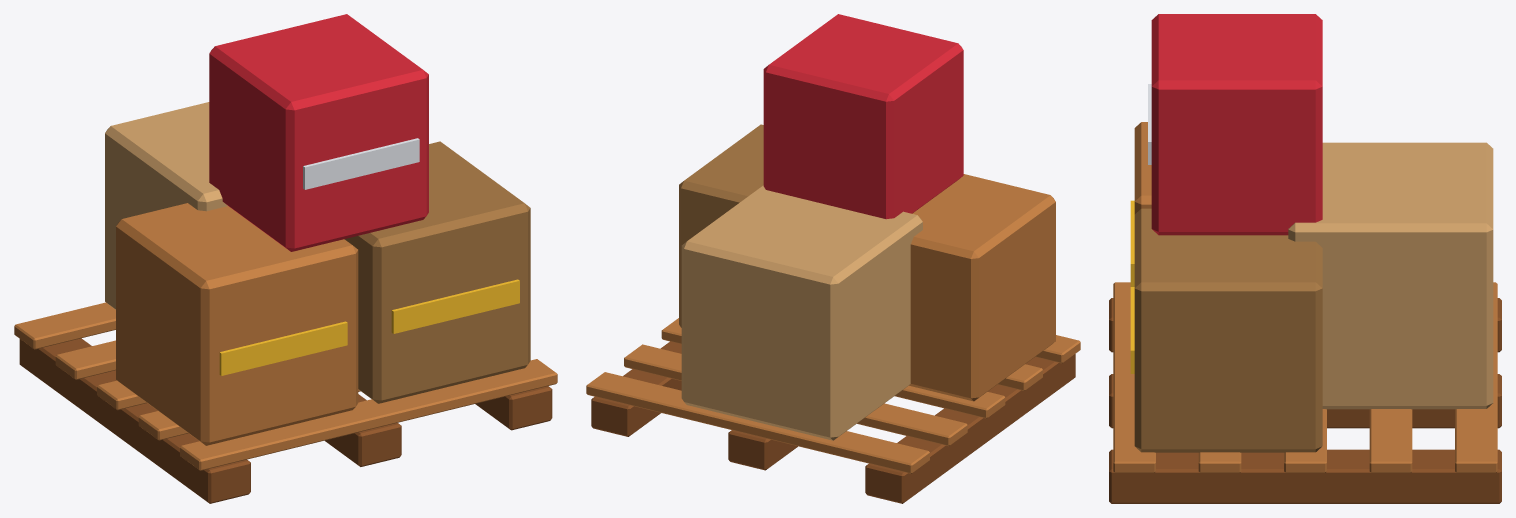
The model's file is PalletCrates.fbx.
3 views of the same model, side by side, from view 1: azimuth 30°, elevation 25°; view 2: azimuth 150°, elevation 25°; view 3: azimuth 270°, elevation 25° (orthographic). The views are drawn at different scales.
Parts seen in each view (by area): view 1: PalletCrates; view 2: PalletCrates; view 3: PalletCrates.
Boxes of the visible parts, bbox=[...] form: PalletCrates: bbox=[14, 14, 557, 503]; PalletCrates: bbox=[586, 14, 1080, 503]; PalletCrates: bbox=[1109, 14, 1501, 503].
Size of the model in its own units: 5 by 4.8 by 4.6.
1 material, 1 textured.
